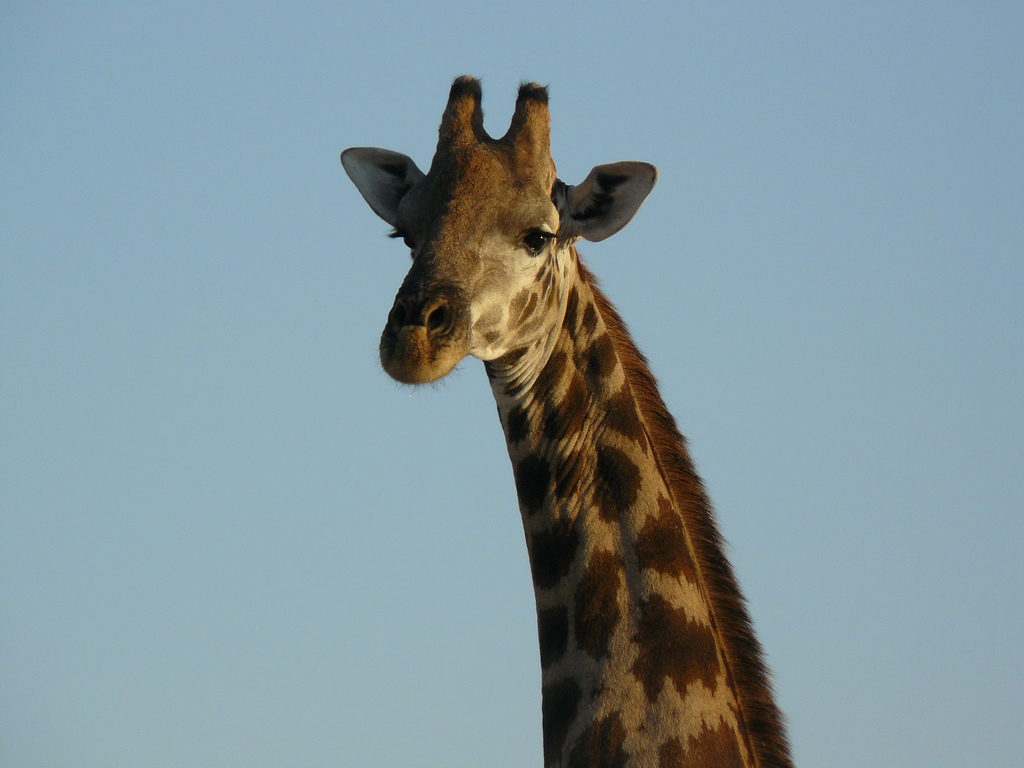giraffe: (306, 72, 832, 744)
